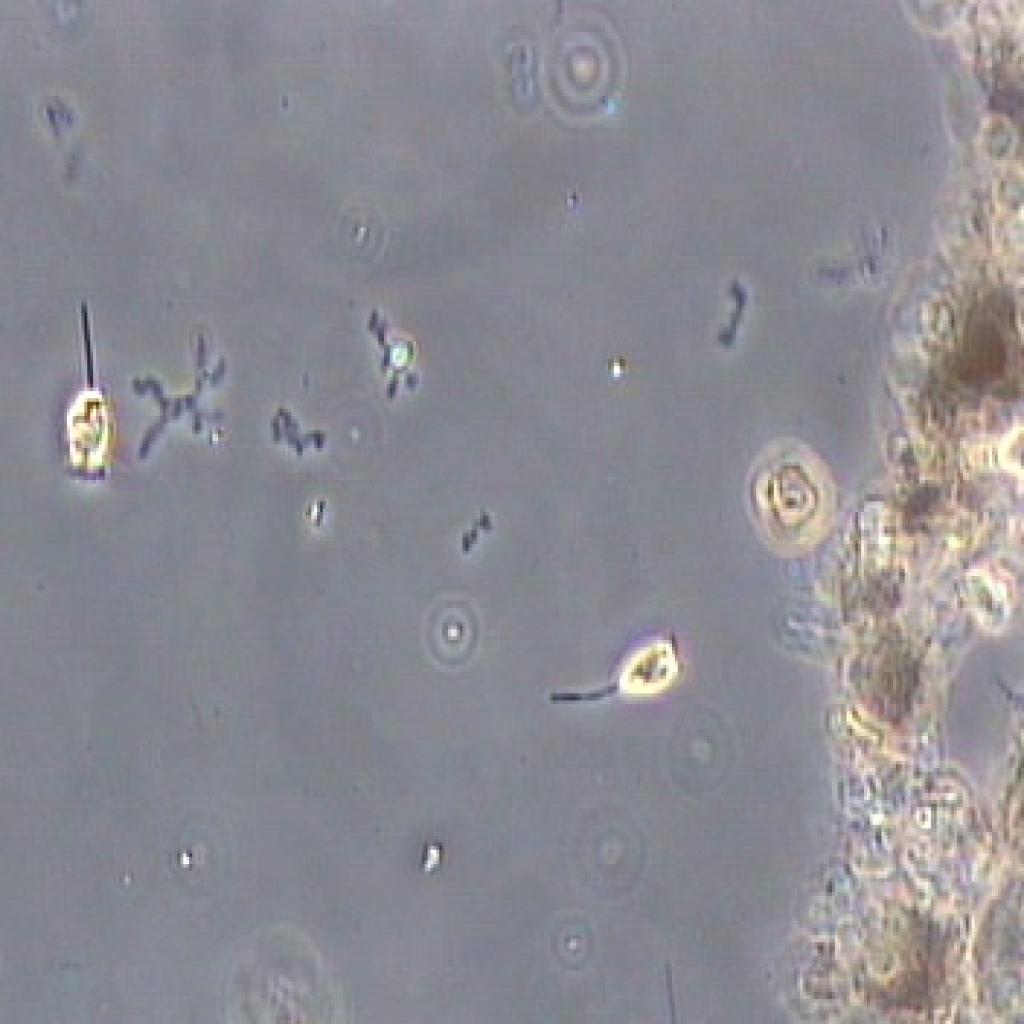Vorticella: (512, 613, 713, 752)
